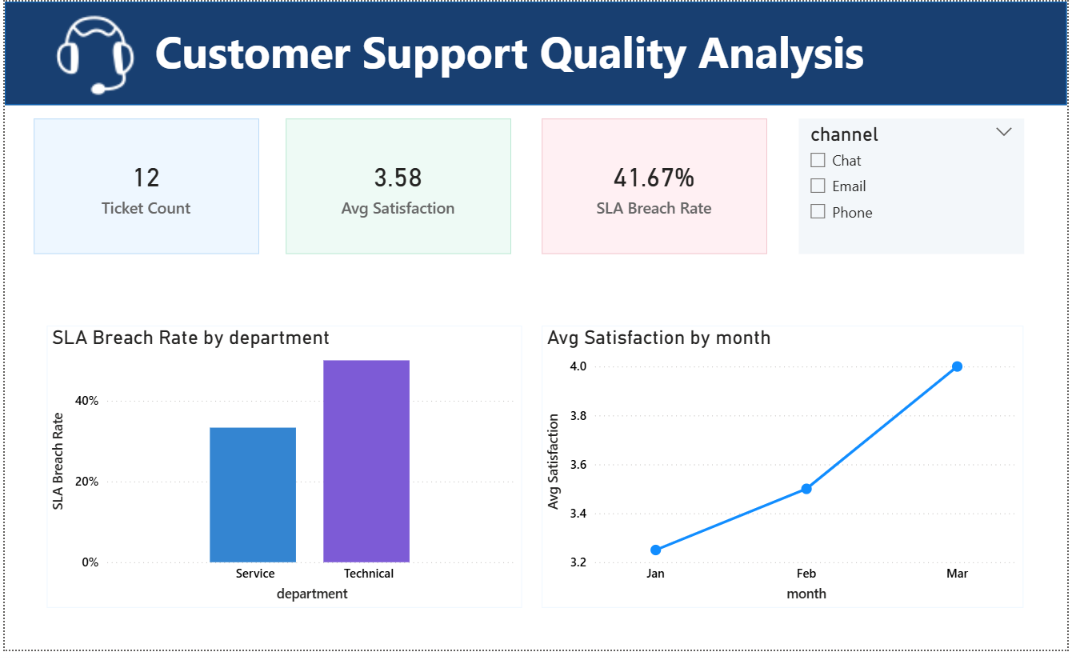

What the dashboard file says about the page in this screenshot:
{"tool":"powerbi","page":{"name":"Page 1","canvas":[1180,720],"ordinal":0},"visuals":[{"type":"shape","box":[0,0,1180,115],"z":0},{"type":"textbox","box":[0,16.7,1081.7,85],"z":1000},{"type":"card","fields":{"Values":["tickets.Ticket Count"]},"box":[31.7,130,250,150],"z":2000},{"type":"card","fields":{"Values":["tickets.Avg Satisfaction"]},"box":[311.7,130,250,150],"z":3000},{"type":"card","fields":{"Values":["tickets.SLA Breach Rate"]},"box":[596.7,130,250,150],"z":4000},{"type":"columnChart","fields":{"Category":["teams.department"],"Y":["tickets.SLA Breach Rate"]},"box":[46.7,360,528.3,313.3],"z":5000},{"type":"lineChart","fields":{"Category":["tickets.month"],"Y":["tickets.Avg Satisfaction"]},"box":[596.7,360,535,313.3],"z":6000},{"type":"slicer","fields":{"Values":["tickets.channel"]},"box":[881.7,130,250,150],"z":7000},{"type":"image","box":[31.7,8.3,136.7,101.7],"z":8000}]}

Visuals, with their boxes in screenshot pixels (x1, y1, x2, y2), scaled from the page's 1180x720 canvas onto the 1071x658 screenshot:
shape: {"left": 0, "top": 0, "right": 1070, "bottom": 105}
textbox: {"left": 0, "top": 15, "right": 982, "bottom": 93}
card - tickets.Ticket Count: {"left": 29, "top": 119, "right": 256, "bottom": 256}
card - tickets.Avg Satisfaction: {"left": 283, "top": 119, "right": 510, "bottom": 256}
card - tickets.SLA Breach Rate: {"left": 542, "top": 119, "right": 768, "bottom": 256}
columnChart - teams.department x tickets.SLA Breach Rate: {"left": 42, "top": 329, "right": 522, "bottom": 615}
lineChart - tickets.month x tickets.Avg Satisfaction: {"left": 542, "top": 329, "right": 1027, "bottom": 615}
slicer - tickets.channel: {"left": 800, "top": 119, "right": 1027, "bottom": 256}
image: {"left": 29, "top": 8, "right": 153, "bottom": 101}
